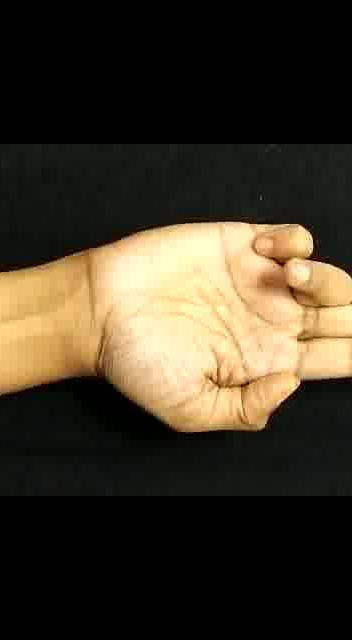ardhpataka: (83, 200, 352, 447)
